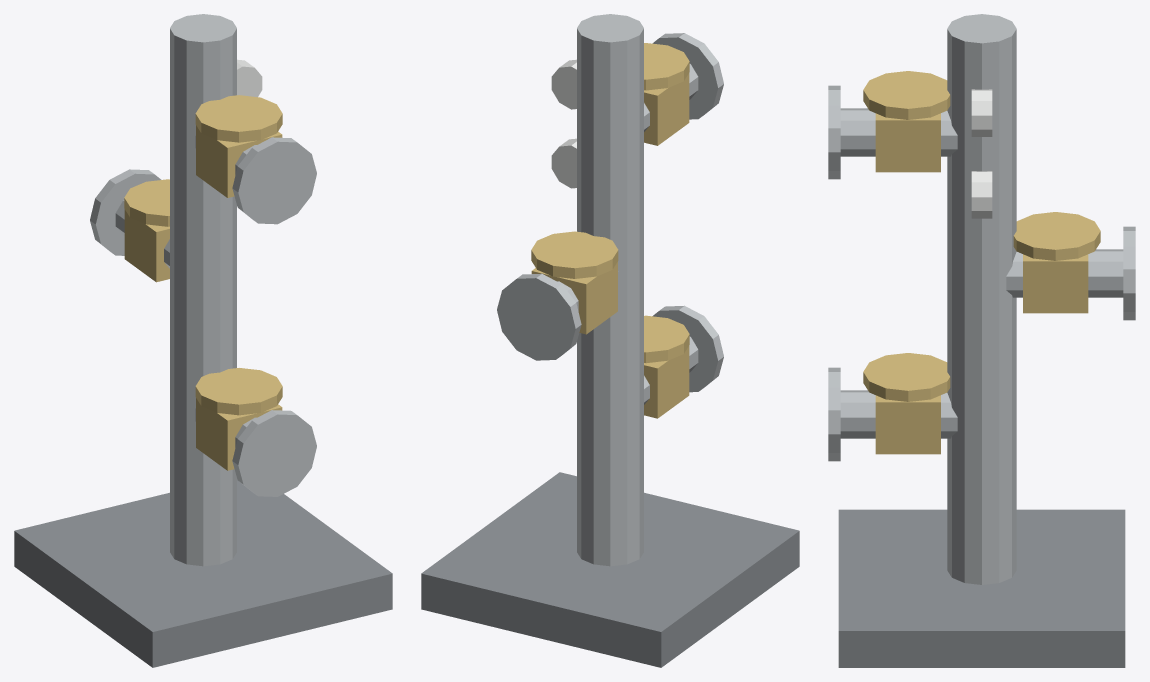
File: P_valve_group.fbx
3 renders of one model, left to right at view 1: azimuth 30°, elevation 25°; view 2: azimuth 150°, elevation 25°; view 3: azimuth 270°, elevation 25°, orthographic. The views are drawn at different scales.
Parts seen in each view (by area): view 1: P_valve_group; view 2: P_valve_group; view 3: P_valve_group.
Part boxes in pixels (x1=…): P_valve_group: x1=14, y1=14, x2=392, y2=667; P_valve_group: x1=421, y1=14, x2=799, y2=667; P_valve_group: x1=828, y1=14, x2=1135, y2=667.
Size of the model in its own units: 0.7 by 1.56 by 0.75.
